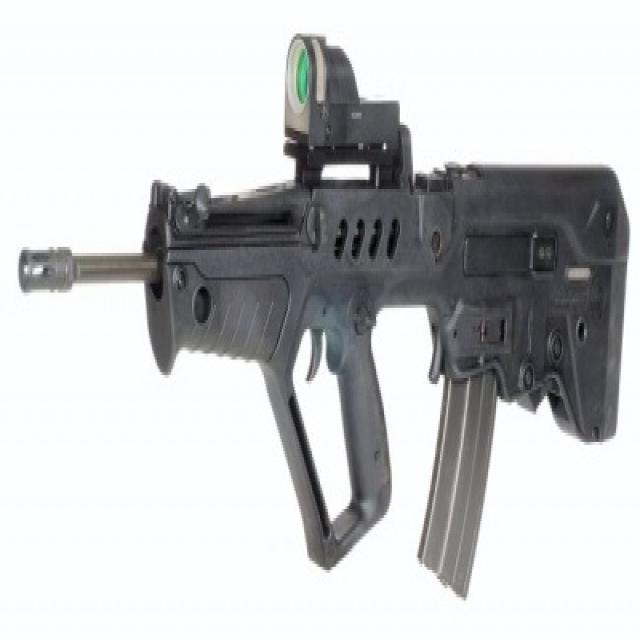rifle: (11, 16, 640, 619)
